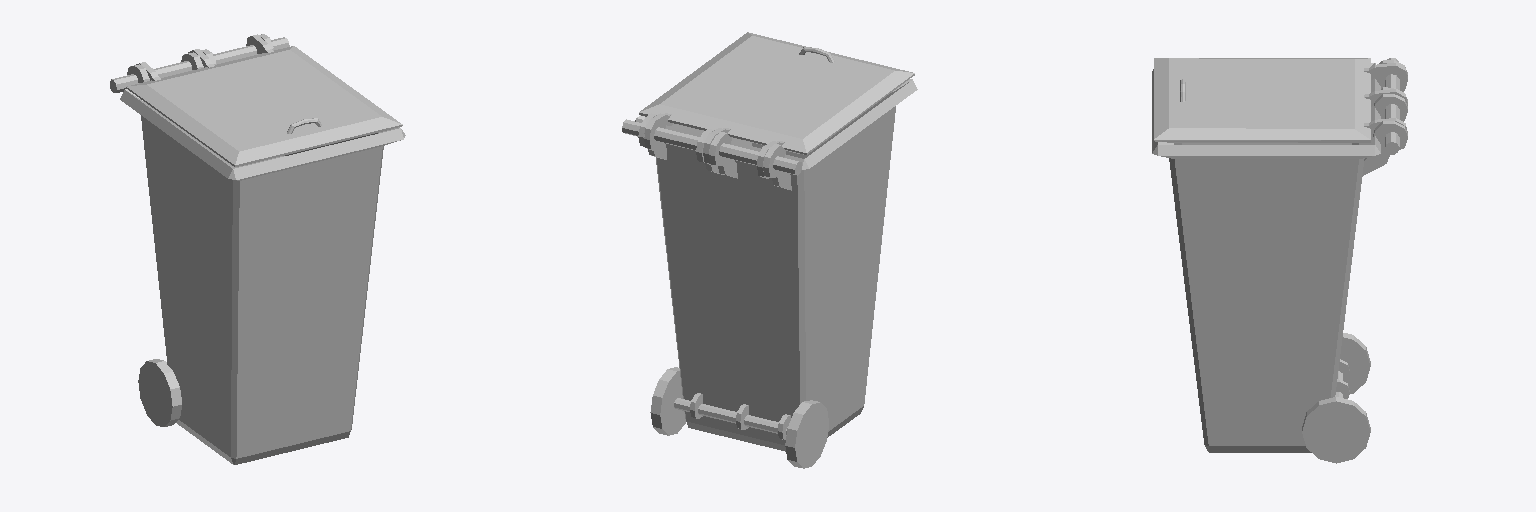
Rendered from sample.obj.
3 views of the same model, side by side, from view 1: azimuth 30°, elevation 25°; view 2: azimuth 150°, elevation 25°; view 3: azimuth 270°, elevation 25° (orthographic).
Parts seen in each view (by area): view 1: Object_TexMap_0; view 2: Object_TexMap_0; view 3: Object_TexMap_0.
Part boxes in pixels (bbox=[...]): Object_TexMap_0: bbox=[110, 34, 405, 464]; Object_TexMap_0: bbox=[622, 32, 917, 468]; Object_TexMap_0: bbox=[1152, 58, 1407, 463].
Bounding box in the file's own units: 1.35 × 2.5 × 1.69.